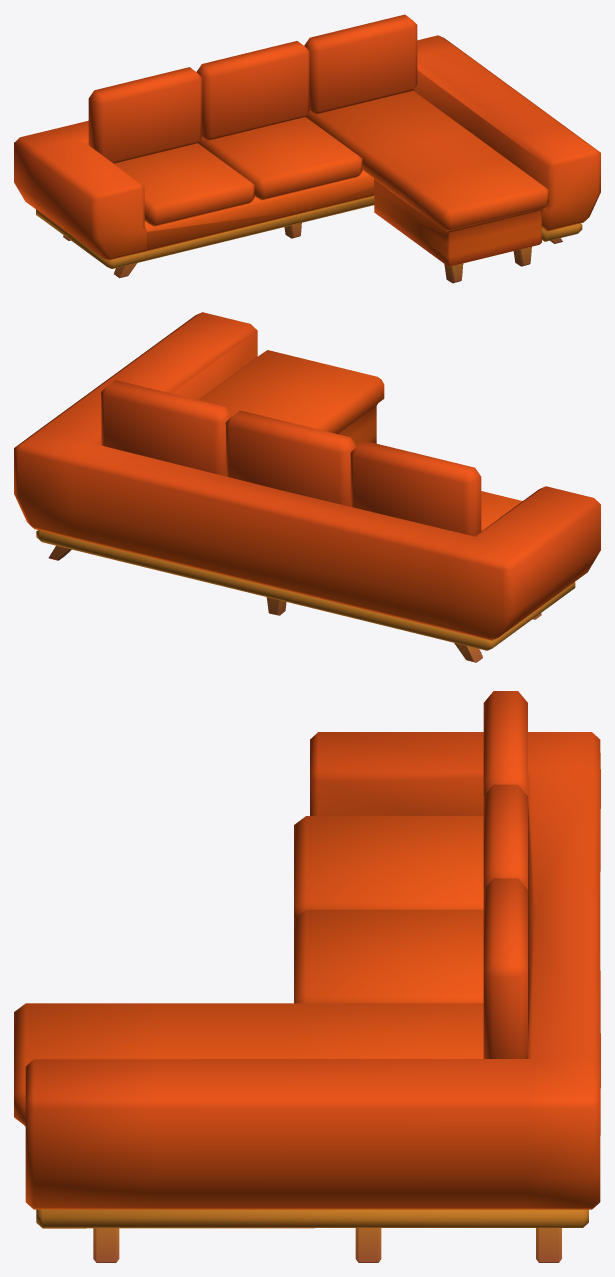
File: LargestSofa.fbx
The picture shows the model from 3 angles, top to bottom: view 1: azimuth 30°, elevation 25°; view 2: azimuth 150°, elevation 25°; view 3: azimuth 270°, elevation 25°; orthographic projection. The views are drawn at different scales.
Visible parts, largest first — view 1: LargestSofa; view 2: LargestSofa; view 3: LargestSofa.
Boxes of the visible parts, x1,y1,x2,y2 form: LargestSofa: (14,14,600,283); LargestSofa: (14,312,600,662); LargestSofa: (14,691,600,1262).
Size of the model in its own units: 7.96 by 11.99 by 4.
